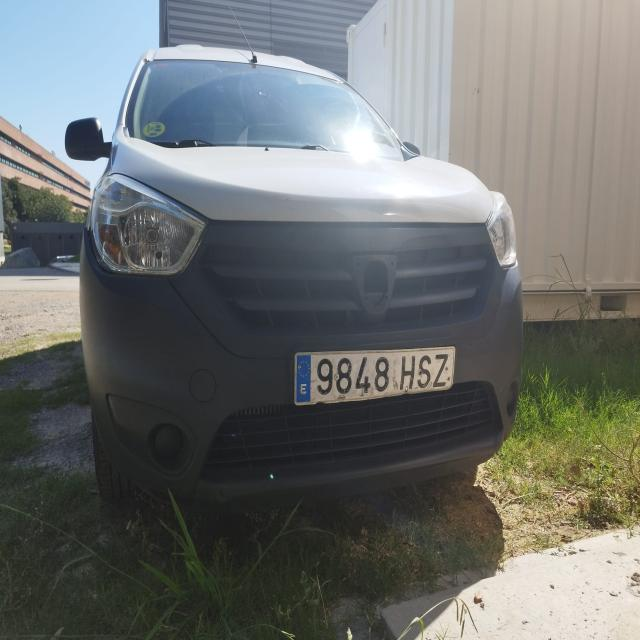plates: (295, 347, 455, 405)
